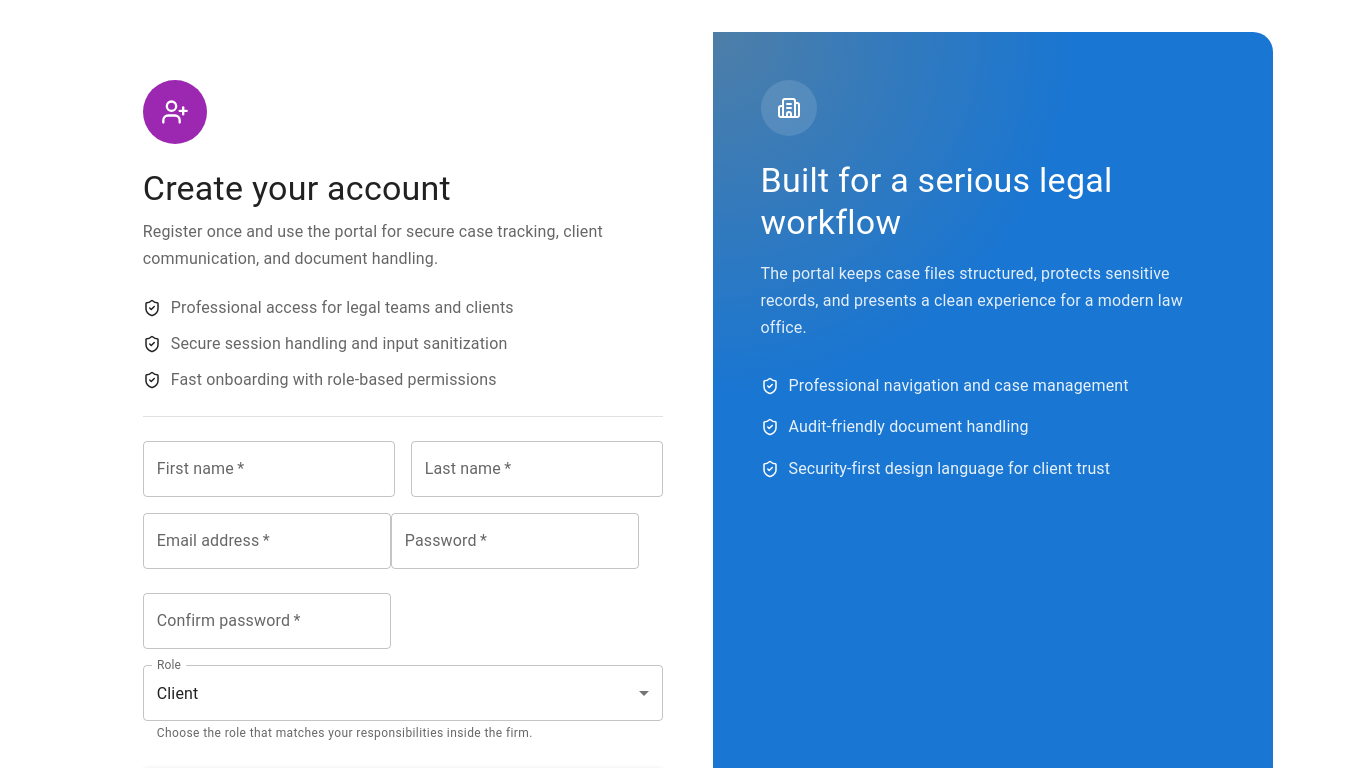
Test: Signup component — password mismatch validation › renders the password strength meter when typing
Type "test" into the password field labelled "Password *" at point(515, 541), box [391,513,639,569]
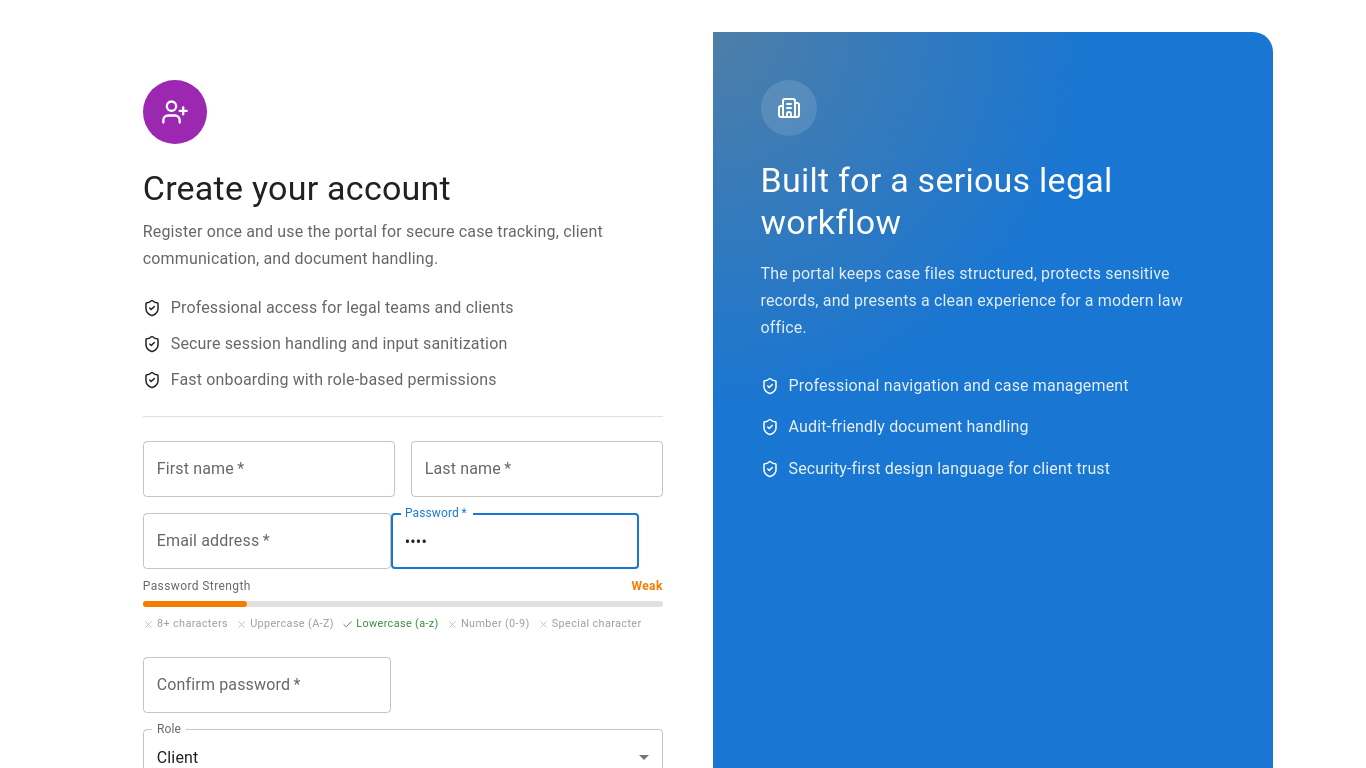
Check: the element with test id "password-strength-meter" is shown, box [143,577,663,633]
